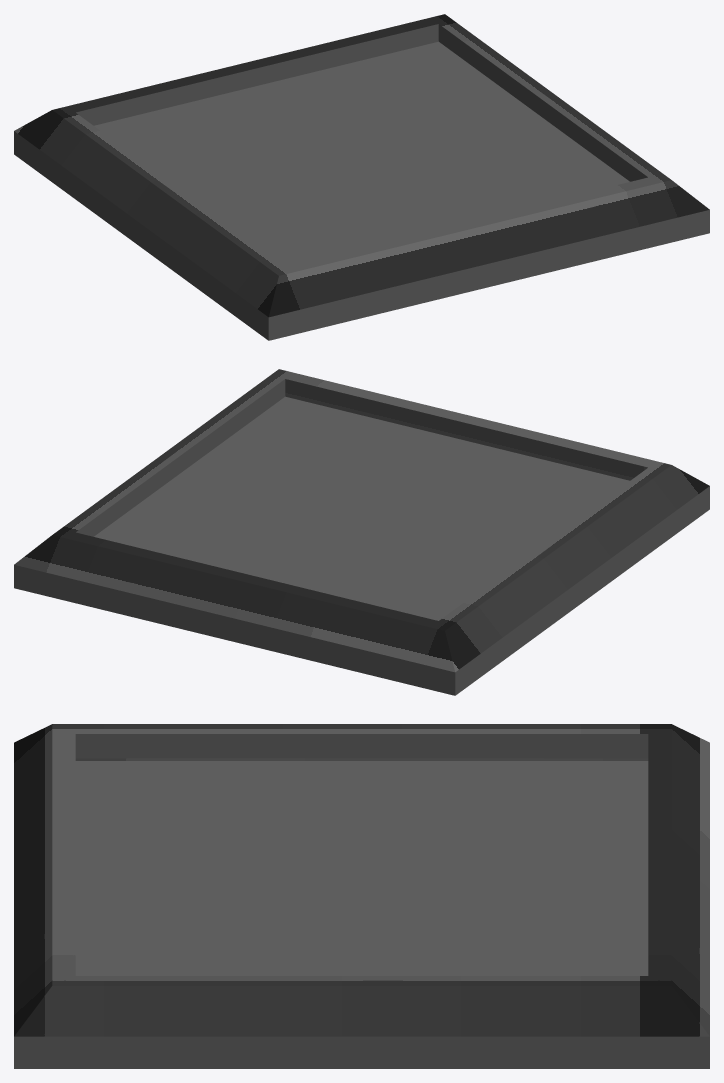
The model's file is plaka_alt.fbx.
3 views of the same model, one above another, from view 1: azimuth 30°, elevation 25°; view 2: azimuth 150°, elevation 25°; view 3: azimuth 270°, elevation 25° (orthographic). The views are drawn at different scales.
Visible parts, largest first — view 1: Plane.007; view 2: Plane.007; view 3: Plane.007.
Boxes of the visible parts, x1,y1,x2,y2 form: Plane.007: (14, 14, 709, 340); Plane.007: (14, 369, 709, 695); Plane.007: (14, 724, 709, 1068).
Size of the model in its own units: 1.99 by 0.2101 by 1.99.
Materials: 1 (1 with a texture image).
